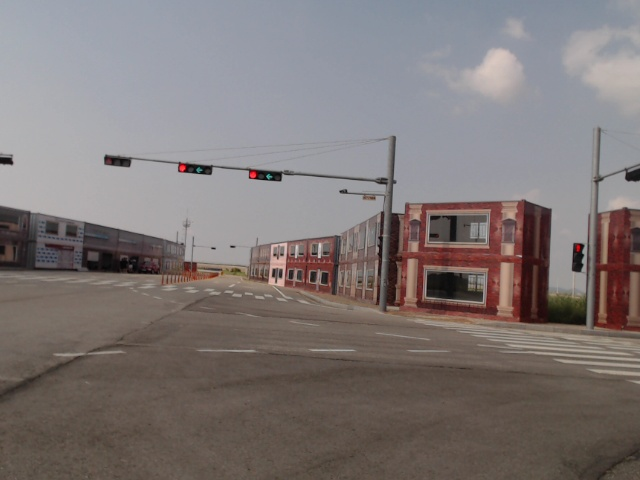left_green_4: (179, 162, 212, 176), (249, 170, 282, 182)
